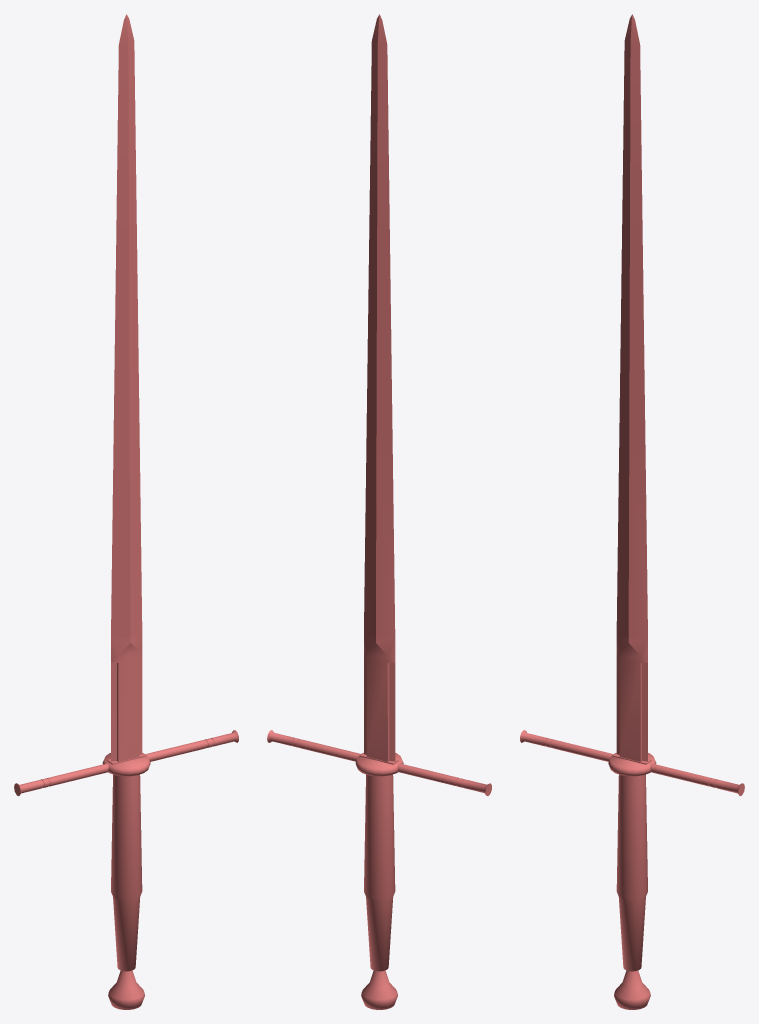
File: Sword 12.fbx
3 renders of one model, left to right at view 1: azimuth 30°, elevation 25°; view 2: azimuth 150°, elevation 25°; view 3: azimuth 330°, elevation 25°, orthographic.
Parts seen in each view (by area): view 1: Sword_12; view 2: Sword_12; view 3: Sword_12.
Part boxes in pixels (box(x1,y1,x2,y2)): Sword_12: box(14, 14, 238, 1009); Sword_12: box(267, 14, 491, 1009); Sword_12: box(520, 14, 744, 1009).
Bounding box in the file's own units: 23.01 × 100 × 4.4.
